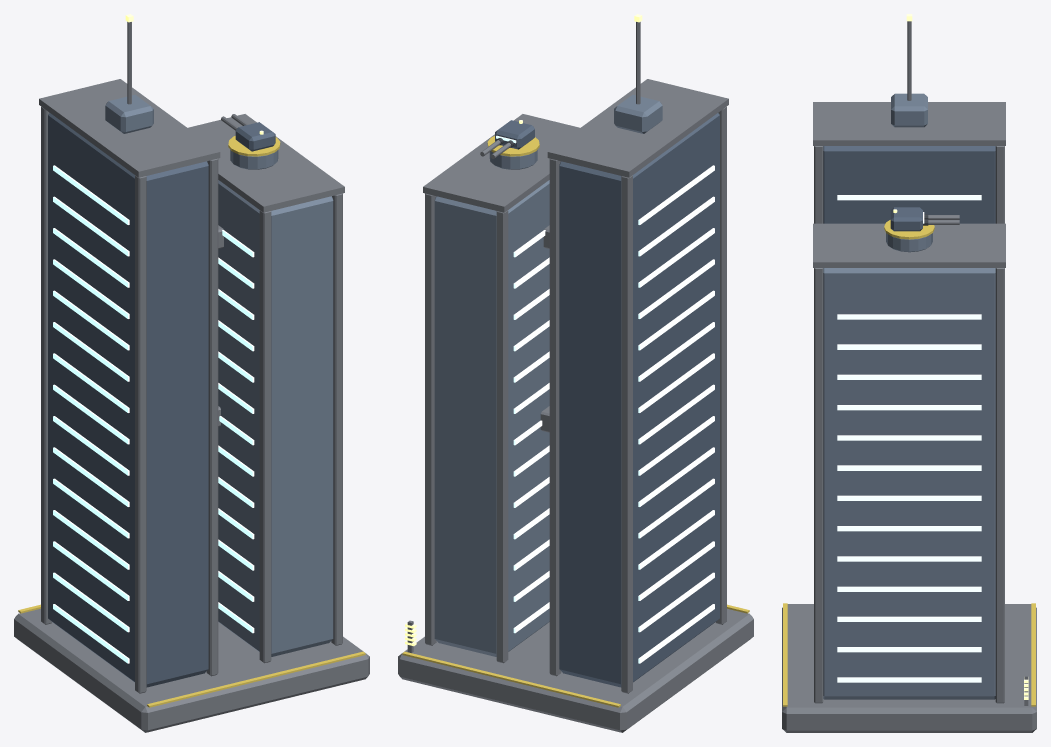
File: zone_high_2_t5.glb
3 views of the same model, side by side, from view 1: azimuth 30°, elevation 25°; view 2: azimuth 150°, elevation 25°; view 3: azimuth 270°, elevation 25° (orthographic). The views are drawn at different scales.
Visible parts, largest first — view 1: zone_high_2_t5, detail; view 2: zone_high_2_t5, detail; view 3: zone_high_2_t5, detail.
Part boxes in pixels (x1,y1,x2,y2): zone_high_2_t5: [14, 79, 369, 732]; detail: [18, 14, 365, 707]; zone_high_2_t5: [398, 79, 753, 732]; detail: [402, 14, 749, 707]; zone_high_2_t5: [782, 93, 1036, 732]; detail: [783, 14, 1035, 706].
Bounding box in the file's own units: 27.5 × 75.74 × 27.5.
